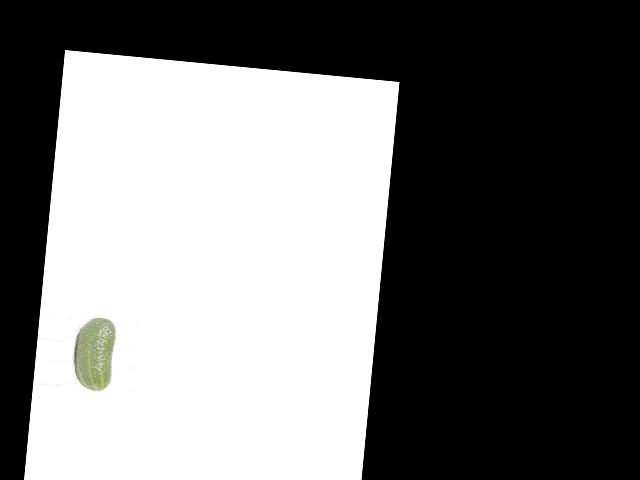cucumber: (71, 315, 116, 392)
